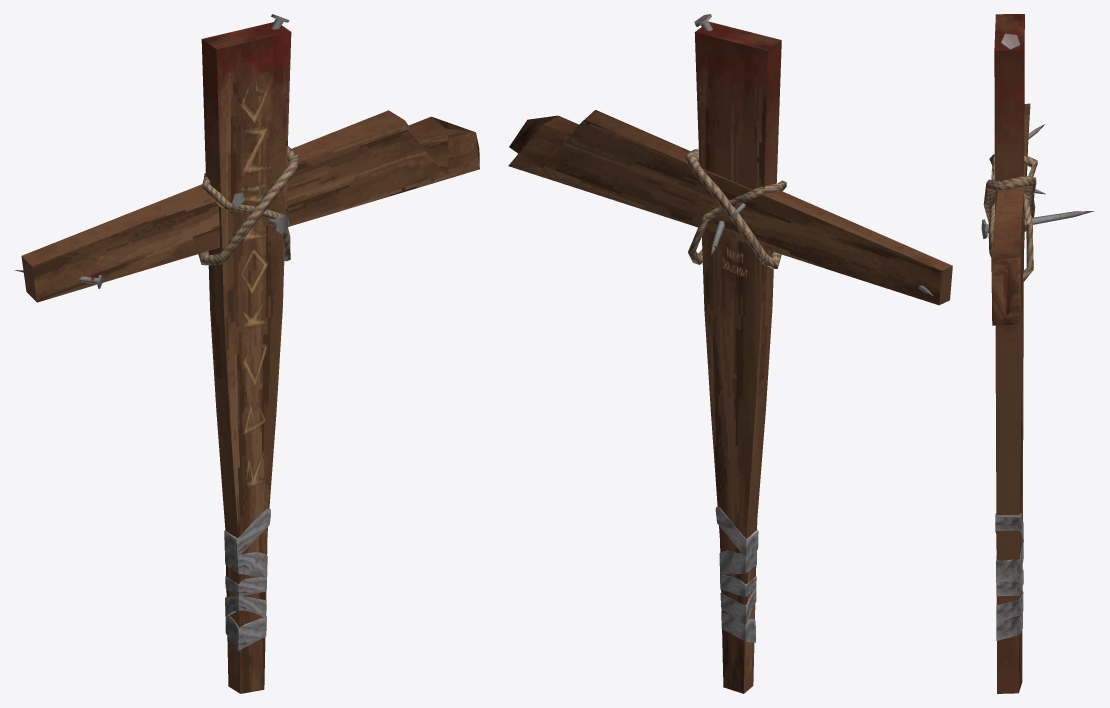
The model's file is TheReckoning.fbx.
The picture shows the model from 3 angles, left to right: view 1: azimuth 30°, elevation 25°; view 2: azimuth 150°, elevation 25°; view 3: azimuth 270°, elevation 25°; orthographic projection.
Visible parts, largest first — view 1: TheReckoning; view 2: TheReckoning; view 3: TheReckoning.
Boxes of the visible parts, x1=… form: TheReckoning: x1=14, y1=14, x2=479, y2=693; TheReckoning: x1=508, y1=14, x2=952, y2=693; TheReckoning: x1=981, y1=14, x2=1094, y2=693.
Size of the model in its own units: 3.98 by 5.68 by 0.8765.
